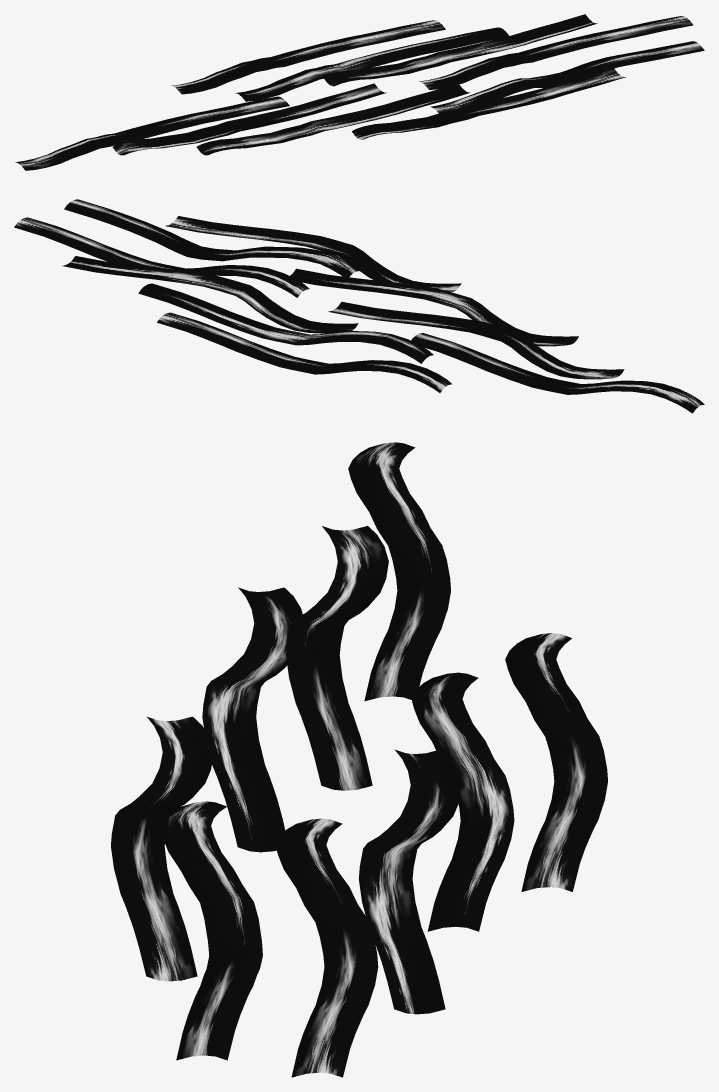
Rendered from EnvWind.fbx.
3 renders of one model, top to bottom at view 1: azimuth 30°, elevation 25°; view 2: azimuth 150°, elevation 25°; view 3: azimuth 270°, elevation 25°, orthographic. The views are drawn at different scales.
Visible parts, largest first — view 1: SM_e_Env_e_201_Wind005.001; view 2: SM_e_Env_e_201_Wind005.001; view 3: SM_e_Env_e_201_Wind005.001.
Boxes of the visible parts, bbox=[...] form: SM_e_Env_e_201_Wind005.001: bbox=[15, 14, 704, 170]; SM_e_Env_e_201_Wind005.001: bbox=[14, 199, 704, 413]; SM_e_Env_e_201_Wind005.001: bbox=[111, 442, 607, 1077].
Bounding box in the file's own units: 60267 × 1261 × 19995.
